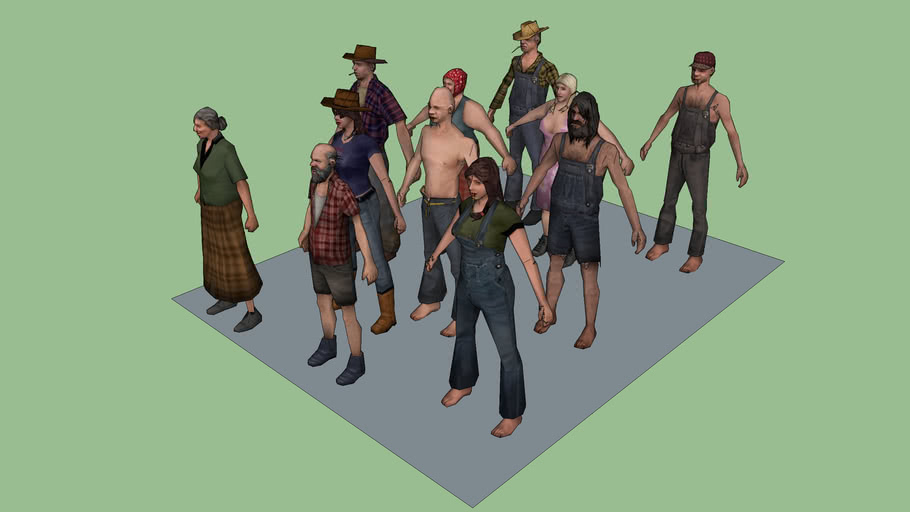person: (446, 166, 532, 437), (316, 94, 400, 341), (658, 48, 739, 288), (184, 110, 268, 331), (542, 100, 616, 343), (301, 146, 373, 395), (406, 90, 476, 327)
